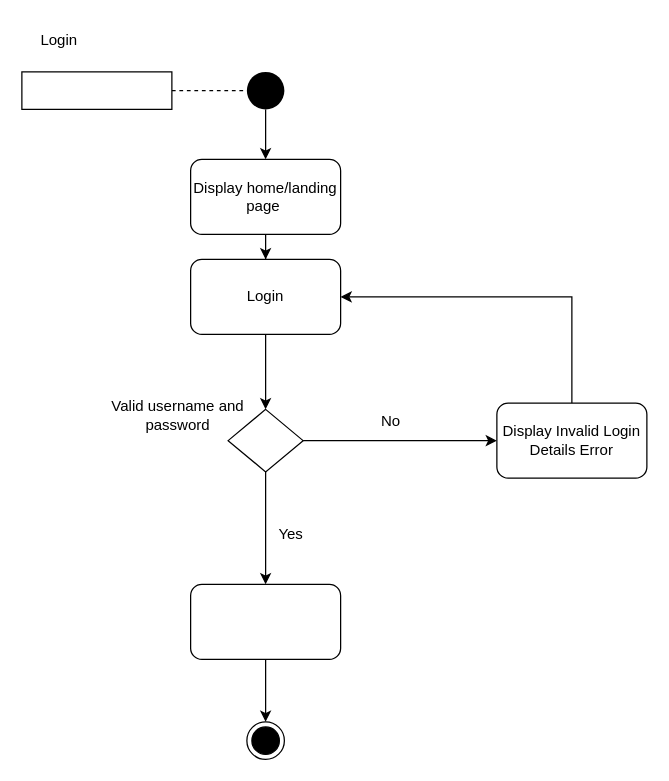
Some shapes in this 669 by 781 pixel diagram are drawn without their labels. Each missing label, with the centre of its shape:
"Display Player Dashboard" goes at (265,621).
"User has created a profile previously" goes at (96,90).
